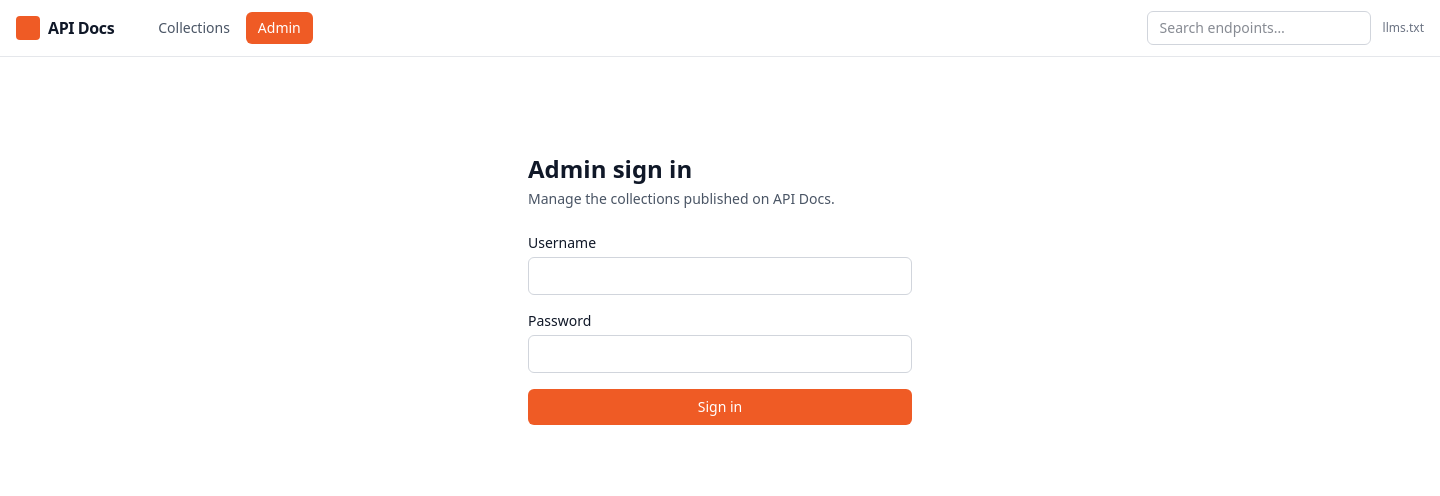
login failure shows the server message
This screenshot has width=1440, height=496.
Type "admin" into the field labelled "Username" at (720, 276), box x1=528 y1=257 x2=912 y2=295
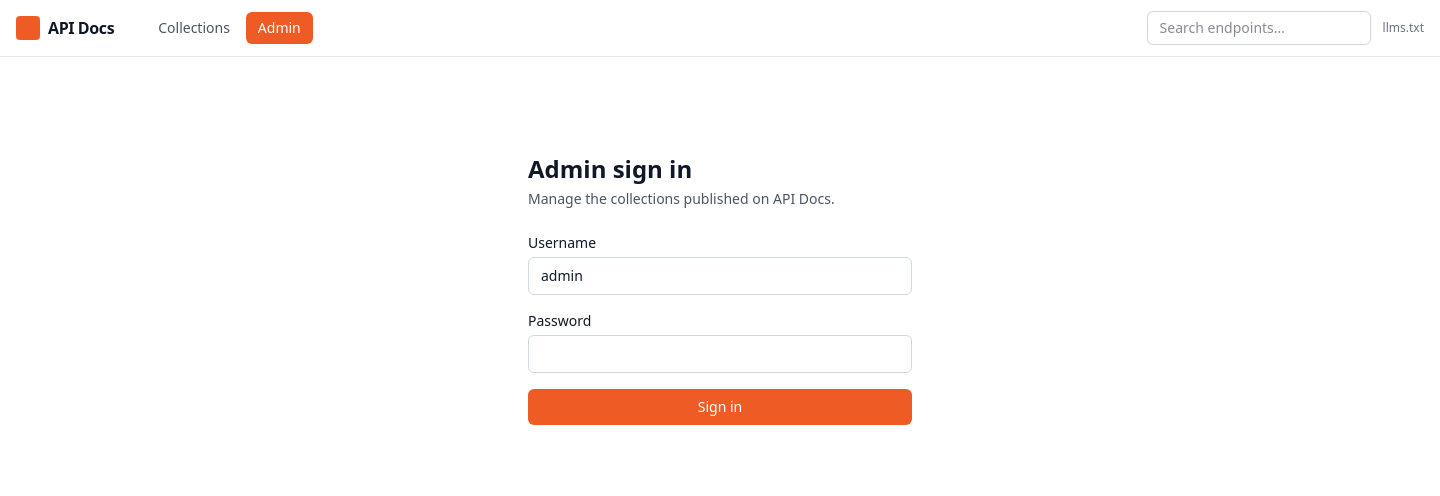
Type "nope" into the password field labelled "Password" at (720, 354), box x1=528 y1=335 x2=912 y2=373
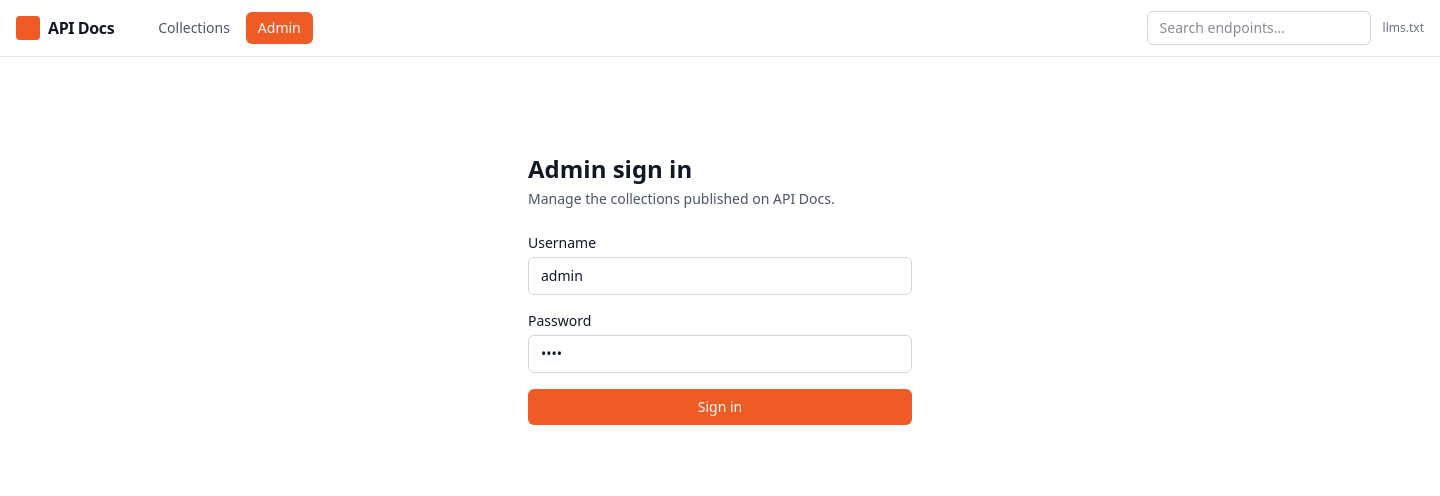
Submit the form "Sign in", box x1=528 y1=233 x2=912 y2=425
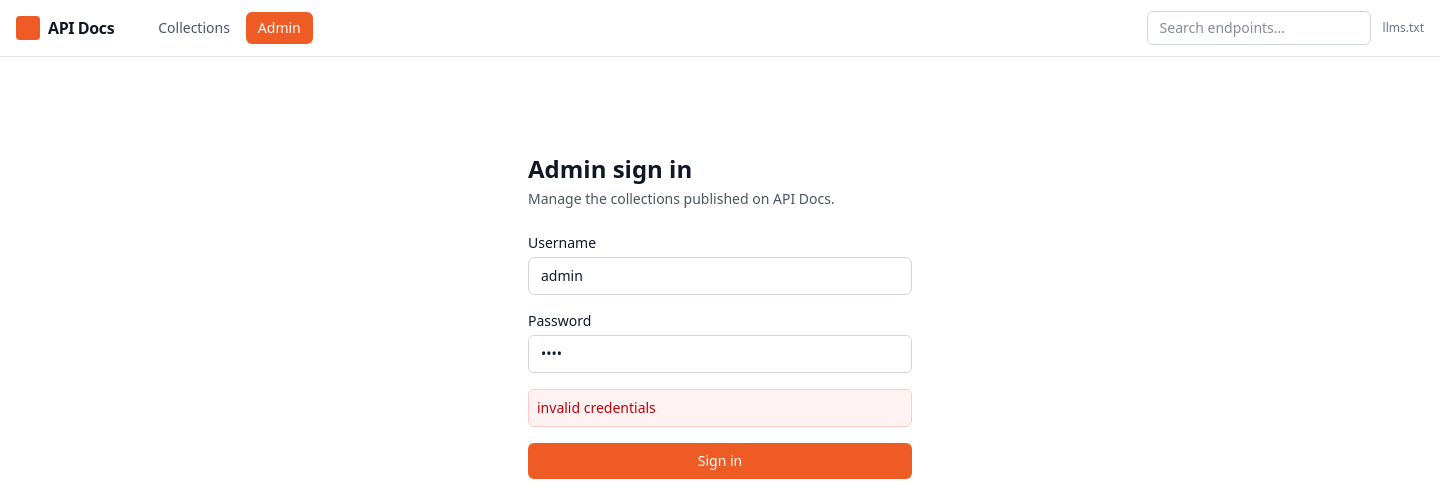
Expected: the message reads "invalid credentials", x1=537 y1=398 x2=656 y2=417
